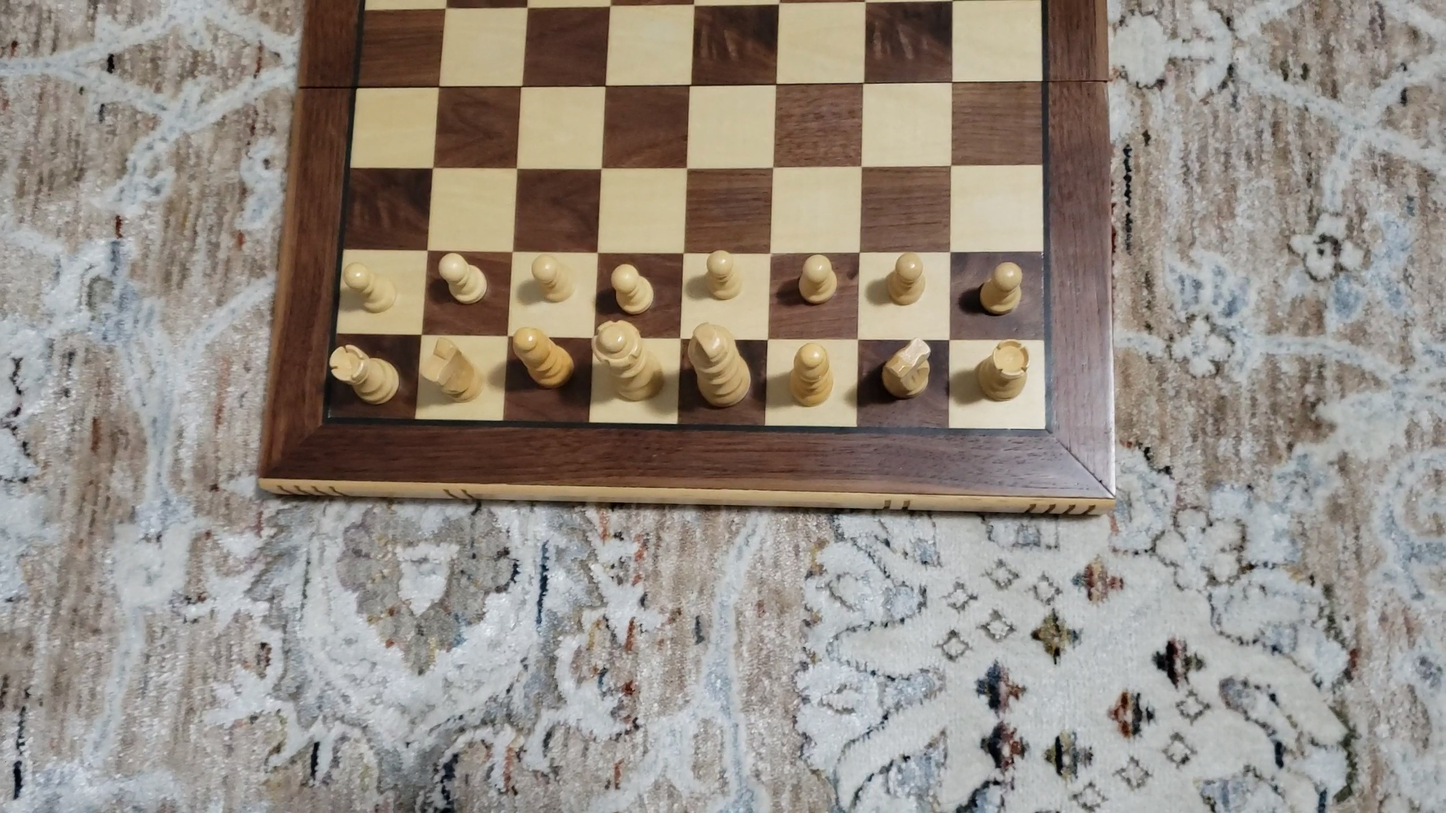white-bishop: (507, 324, 575, 391), (786, 339, 837, 411)
white-king: (685, 318, 753, 412)
white-knight: (419, 333, 484, 408), (874, 335, 936, 405)
white-pawn: (975, 256, 1030, 320), (339, 260, 401, 316), (880, 247, 931, 309), (434, 250, 490, 306), (700, 244, 748, 304), (793, 250, 841, 308), (608, 260, 656, 315), (527, 250, 574, 305)
white-queen: (591, 317, 666, 405)
white-rook: (970, 336, 1035, 406), (331, 341, 400, 406)
